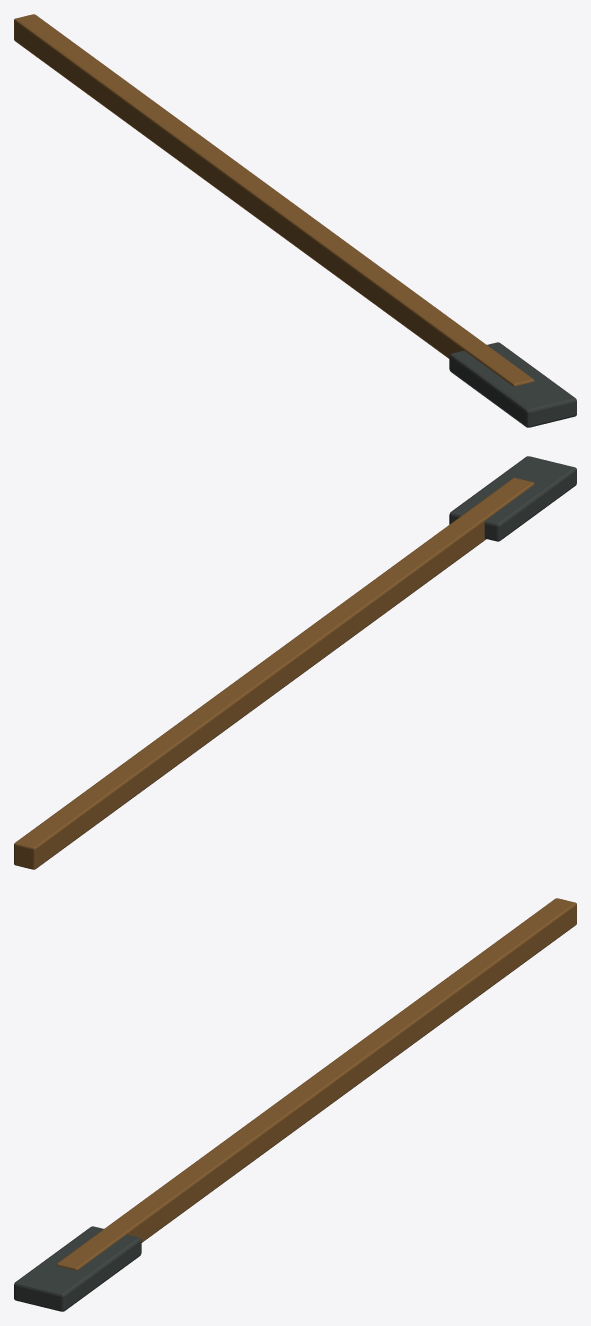
The model's file is akontion_javelin_LOD2.glb.
3 views of the same model, one above another, from view 1: azimuth 30°, elevation 25°; view 2: azimuth 150°, elevation 25°; view 3: azimuth 330°, elevation 25° (orthographic).
Parts seen in each view (by area): view 1: LOD2_Akontion, LOD2_Head; view 2: LOD2_Akontion, LOD2_Head; view 3: LOD2_Akontion, LOD2_Head.
Part boxes in pixels (<box>): LOD2_Akontion: <box>14,14,534,386</box>; LOD2_Head: <box>449,342,576,427</box>; LOD2_Akontion: <box>14,477,534,869</box>; LOD2_Head: <box>449,456,576,541</box>; LOD2_Akontion: <box>56,898,576,1270</box>; LOD2_Head: <box>14,1226,141,1311</box>.
Size of the model in its own units: 0.13 by 0.055 by 2.35.
